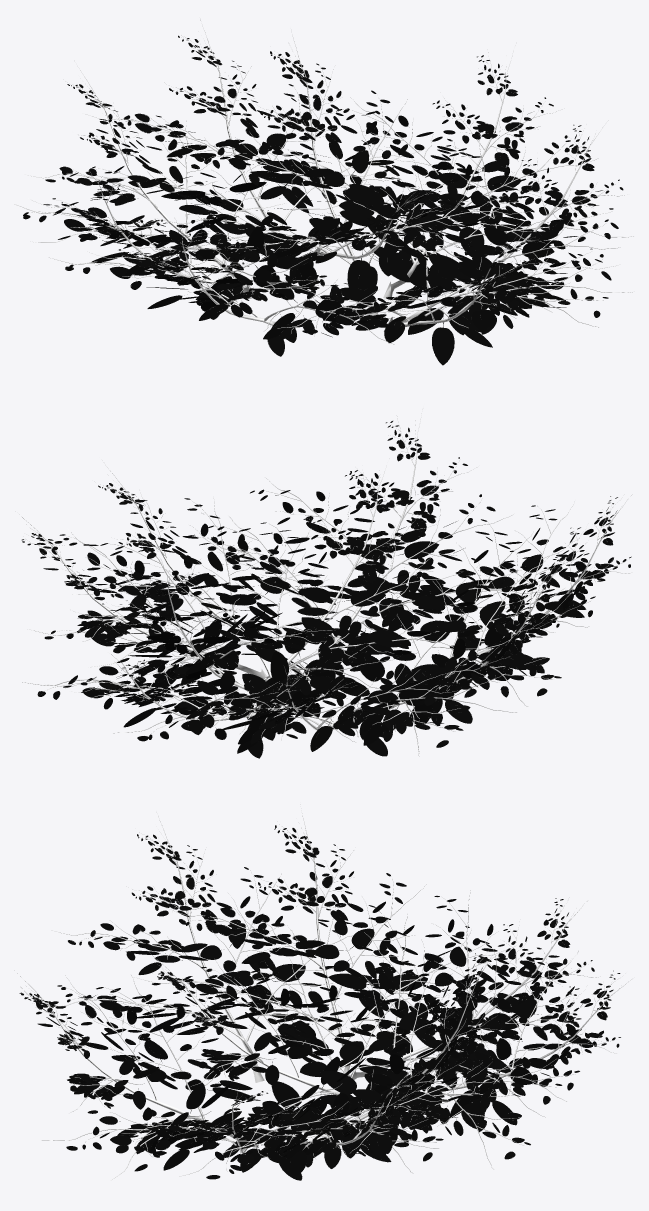
File: feuillage_2.fbx
3 renders of one model, top to bottom at view 1: azimuth 30°, elevation 25°; view 2: azimuth 150°, elevation 25°; view 3: azimuth 270°, elevation 25°, orthographic. The views are drawn at different scales.
Parts seen in each view (by area): view 1: feuillage2; view 2: feuillage2; view 3: feuillage2.
Part boxes in pixels (x1,y1,x2,y2): feuillage2: (14,17,633,365); feuillage2: (18,409,632,758); feuillage2: (14,804,631,1180).
Size of the model in its own units: 2007 by 812 by 2103.
